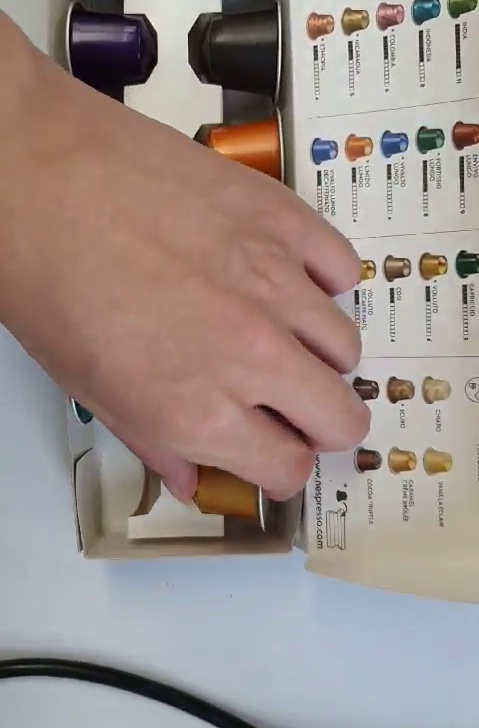capsule_8: (190, 434, 275, 533)
